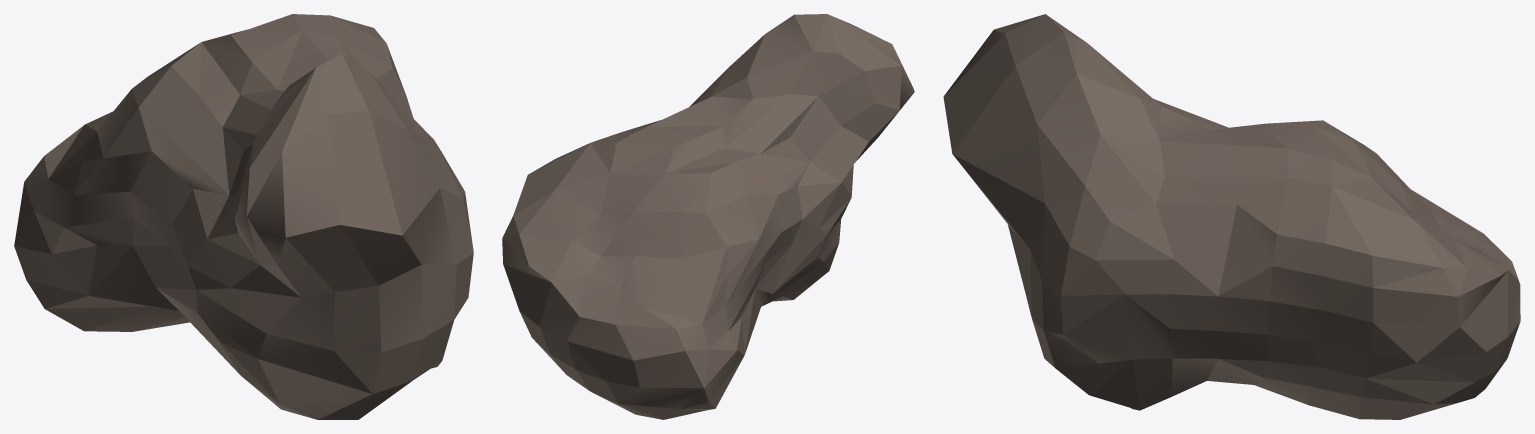
Rendered from Asteroid6.fbx.
3 views of the same model, side by side, from view 1: azimuth 30°, elevation 25°; view 2: azimuth 150°, elevation 25°; view 3: azimuth 270°, elevation 25° (orthographic). The views are drawn at different scales.
Parts seen in each view (by area): view 1: Asteroid6; view 2: Asteroid6; view 3: Asteroid6.
Part boxes in pixels (left/top/right/bottom): Asteroid6: left=14, top=14, right=473, bottom=419; Asteroid6: left=502, top=14, right=914, bottom=419; Asteroid6: left=943, top=14, right=1520, bottom=419.
Bounding box in the file's own units: 51.98 × 59.09 × 84.31.
